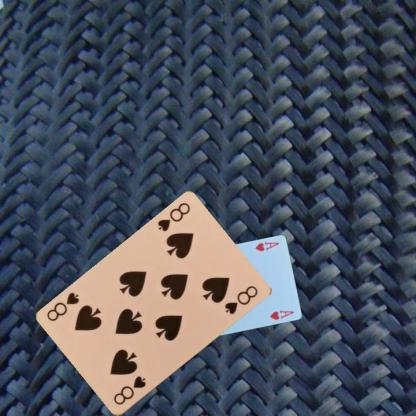8s: (111, 373, 147, 407), (155, 200, 192, 233)
Ah: (253, 239, 280, 253)
